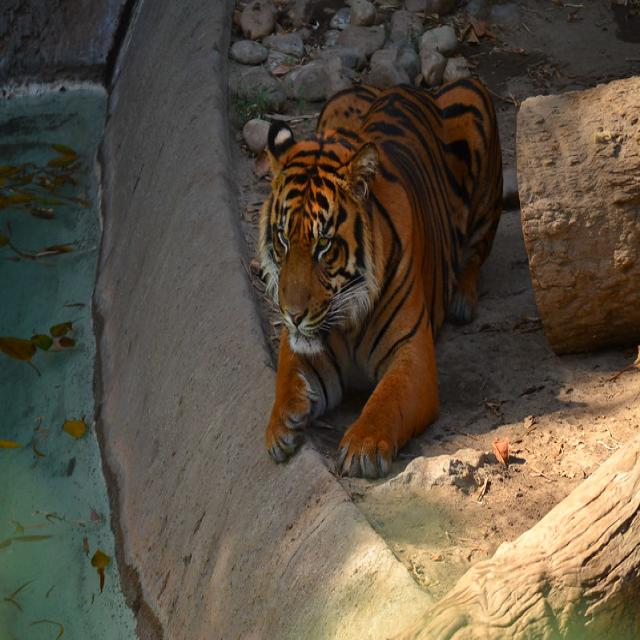Tiger: (254, 69, 501, 482)
